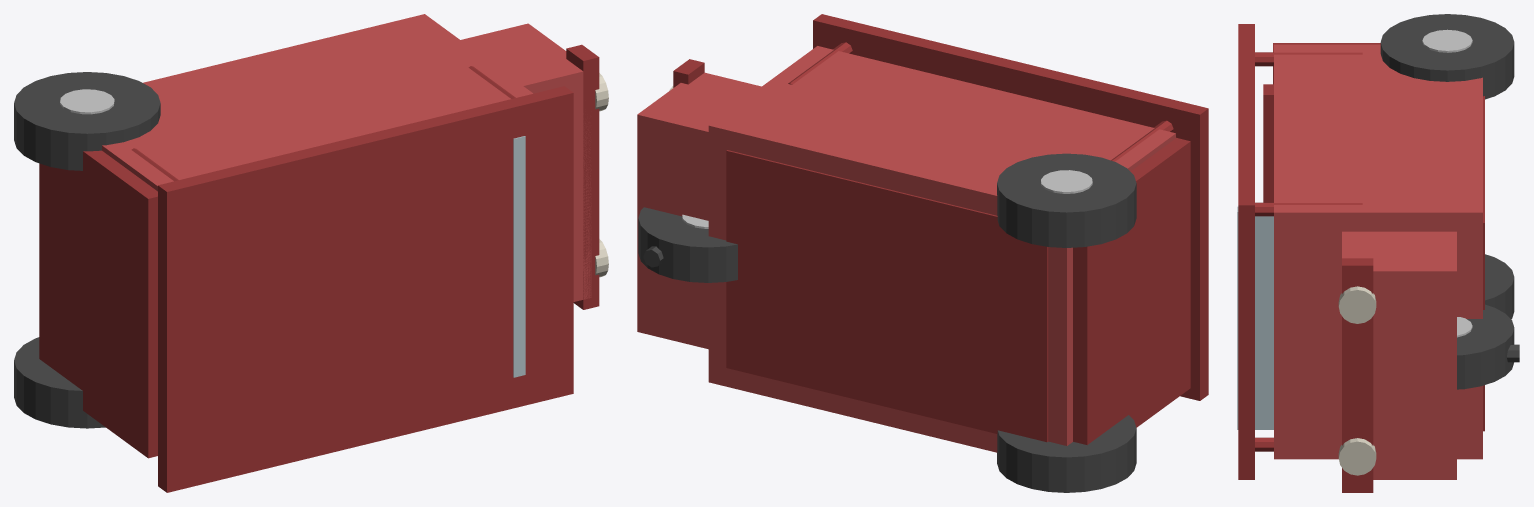
Rendered from tuktuk_idle_red.glb.
The picture shows the model from 3 angles, left to right: view 1: azimuth 30°, elevation 25°; view 2: azimuth 150°, elevation 25°; view 3: azimuth 270°, elevation 25°; orthographic projection. The views are drawn at different scales.
Visible parts, largest first — view 1: geometry_2, geometry_0, geometry_1, geometry_16, geometry_7, geometry_8, geometry_18, geometry_11, geometry_17; view 2: geometry_21, geometry_0, geometry_1, geometry_2, geometry_7, geometry_16, geometry_18, geometry_14, geometry_17; view 3: geometry_0, geometry_7, geometry_2, geometry_16, geometry_8, geometry_11, geometry_14, geometry_18, geometry_12, geometry_9, geometry_10, geometry_17 (+3 smaller).
Boxes of the visible parts, <box> form: geometry_2: <box>158,86,573,492</box>; geometry_0: <box>102,14,532,191</box>; geometry_1: <box>39,150,157,458</box>; geometry_16: <box>14,72,160,170</box>; geometry_7: <box>461,23,591,301</box>; geometry_8: <box>566,44,599,309</box>; geometry_18: <box>14,337,105,428</box>; geometry_11: <box>513,136,525,377</box>; geometry_17: <box>60,89,114,114</box>; geometry_21: <box>726,150,1048,442</box>; geometry_0: <box>708,46,1175,452</box>; geometry_1: <box>1073,137,1190,444</box>; geometry_2: <box>813,14,1208,400</box>; geometry_7: <box>637,72,761,349</box>; geometry_16: <box>997,153,1136,247</box>; geometry_18: <box>997,415,1136,492</box>; geometry_14: <box>638,207,737,282</box>; geometry_17: <box>1041,170,1092,193</box>; geometry_0: <box>1274,44,1482,459</box>; geometry_7: <box>1342,231,1456,479</box>; geometry_2: <box>1238,24,1254,479</box>; geometry_16: <box>1380,14,1514,99</box>; geometry_8: <box>1342,258,1373,492</box>; geometry_11: <box>1237,206,1273,429</box>; geometry_14: <box>1457,304,1514,389</box>; geometry_18: <box>1485,254,1514,319</box>; geometry_12: <box>1263,84,1273,202</box>; geometry_9: <box>1338,286,1376,323</box>; geometry_10: <box>1338,438,1376,475</box>; geometry_17: <box>1422,29,1472,52</box>.
Size of the model in its own units: 2.65 by 1.45 by 1.35.
